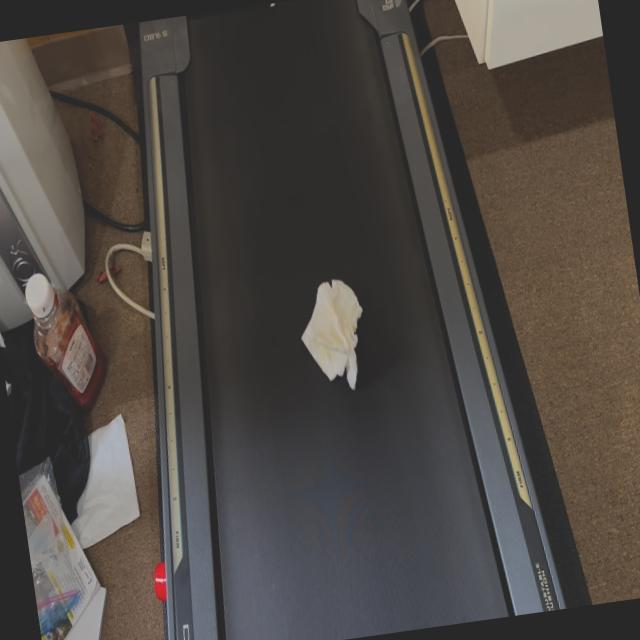Recycle: (294, 276, 374, 394)
